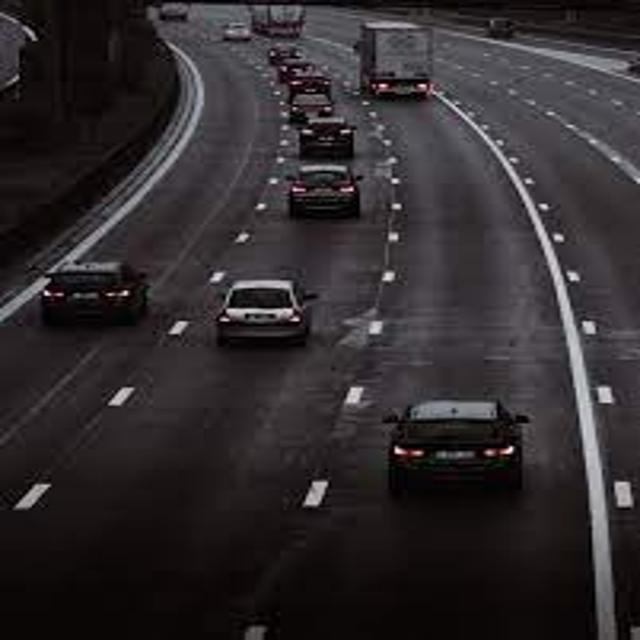car: (383, 401, 530, 488), (217, 280, 317, 343), (42, 263, 147, 321), (353, 22, 431, 97), (286, 166, 364, 213), (298, 119, 357, 155), (251, 2, 305, 36), (288, 75, 333, 114), (277, 57, 315, 80), (268, 41, 304, 62), (222, 22, 253, 42)
